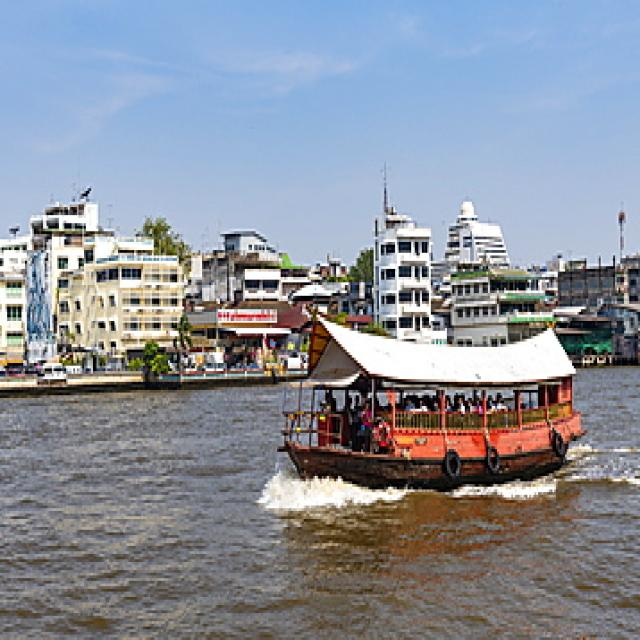houseboat: (290, 302, 580, 493)
